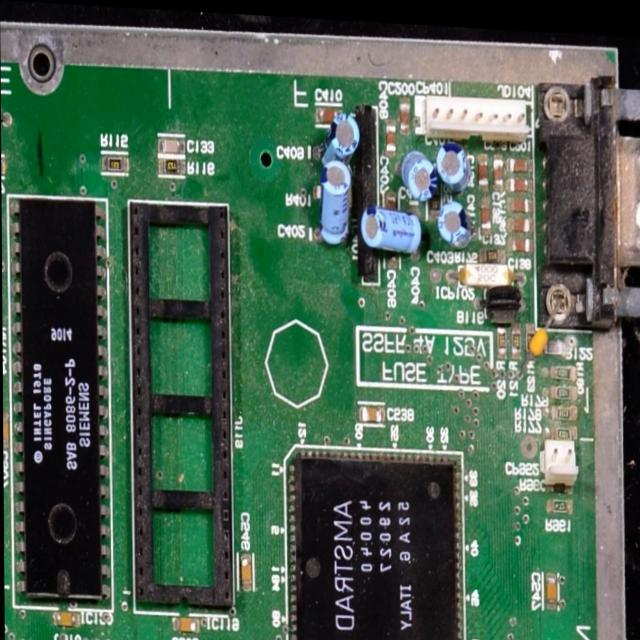IC: (130, 193, 237, 612), (6, 189, 109, 610), (282, 438, 462, 640), (284, 439, 464, 640)
capacitor: (317, 156, 352, 244), (311, 107, 358, 169), (364, 205, 425, 248), (396, 144, 432, 195), (438, 199, 473, 245), (438, 134, 467, 182), (311, 93, 343, 123), (541, 567, 561, 605), (475, 190, 491, 231), (502, 187, 533, 208), (158, 132, 186, 155), (238, 553, 255, 589), (504, 167, 534, 186), (359, 400, 386, 421), (52, 609, 78, 630), (381, 242, 398, 274), (172, 616, 201, 634), (506, 149, 533, 168), (398, 93, 411, 132), (491, 147, 505, 183), (508, 227, 534, 246), (507, 210, 533, 228), (385, 184, 399, 217), (385, 112, 398, 147), (476, 149, 488, 180), (2, 415, 10, 449), (1, 155, 11, 175)
resistor: (521, 314, 551, 363), (160, 149, 187, 175), (551, 352, 580, 376), (548, 375, 578, 398), (545, 414, 579, 434), (102, 150, 129, 175), (547, 486, 571, 514), (476, 239, 507, 259), (546, 396, 577, 414), (507, 321, 523, 351), (544, 471, 570, 489), (525, 318, 538, 352), (494, 319, 508, 349)
